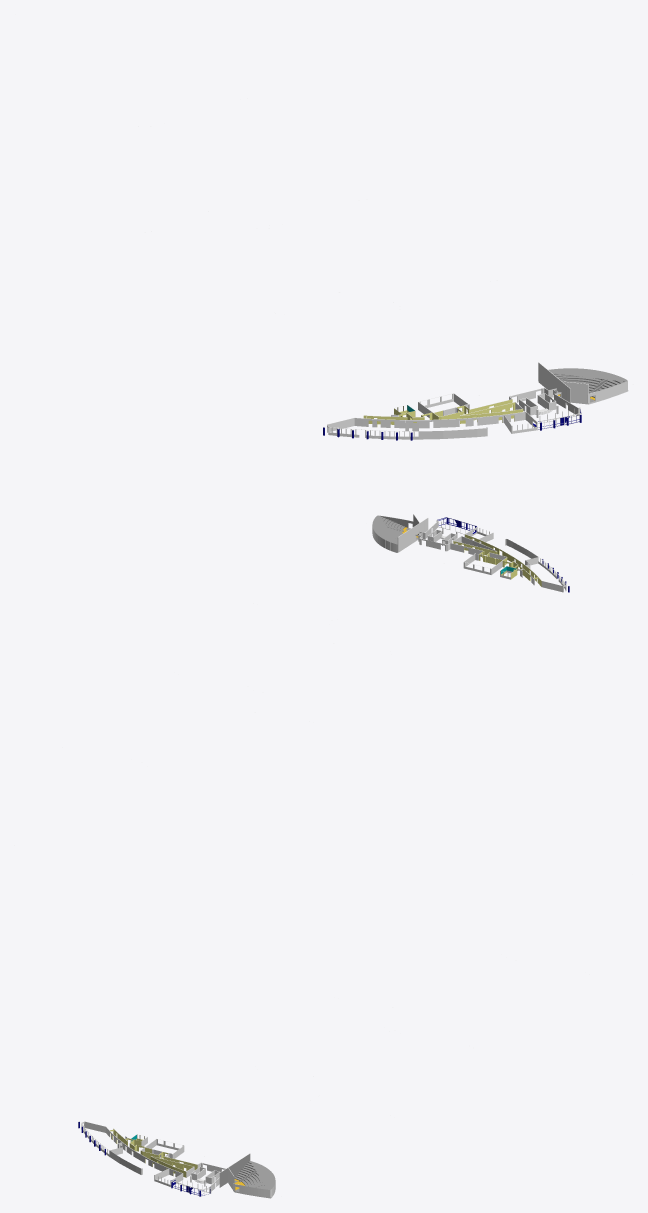
The model's file is RDC.fbx.
3 views of the same model, one above another, from view 1: azimuth 30°, elevation 25°; view 2: azimuth 150°, elevation 25°; view 3: azimuth 330°, elevation 25° (orthographic). The views are drawn at different scales.
Parts seen in each view (by area): view 1: Model; view 2: Model; view 3: Model.
Part boxes in pixels (x1=…): Model: x1=323, y1=362, x2=628, y2=440; Model: x1=372, y1=514, x2=569, y2=592; Model: x1=78, y1=1121, x2=275, y2=1198.
Bounding box in the file's own units: 104916 × 6589 × 335067.
